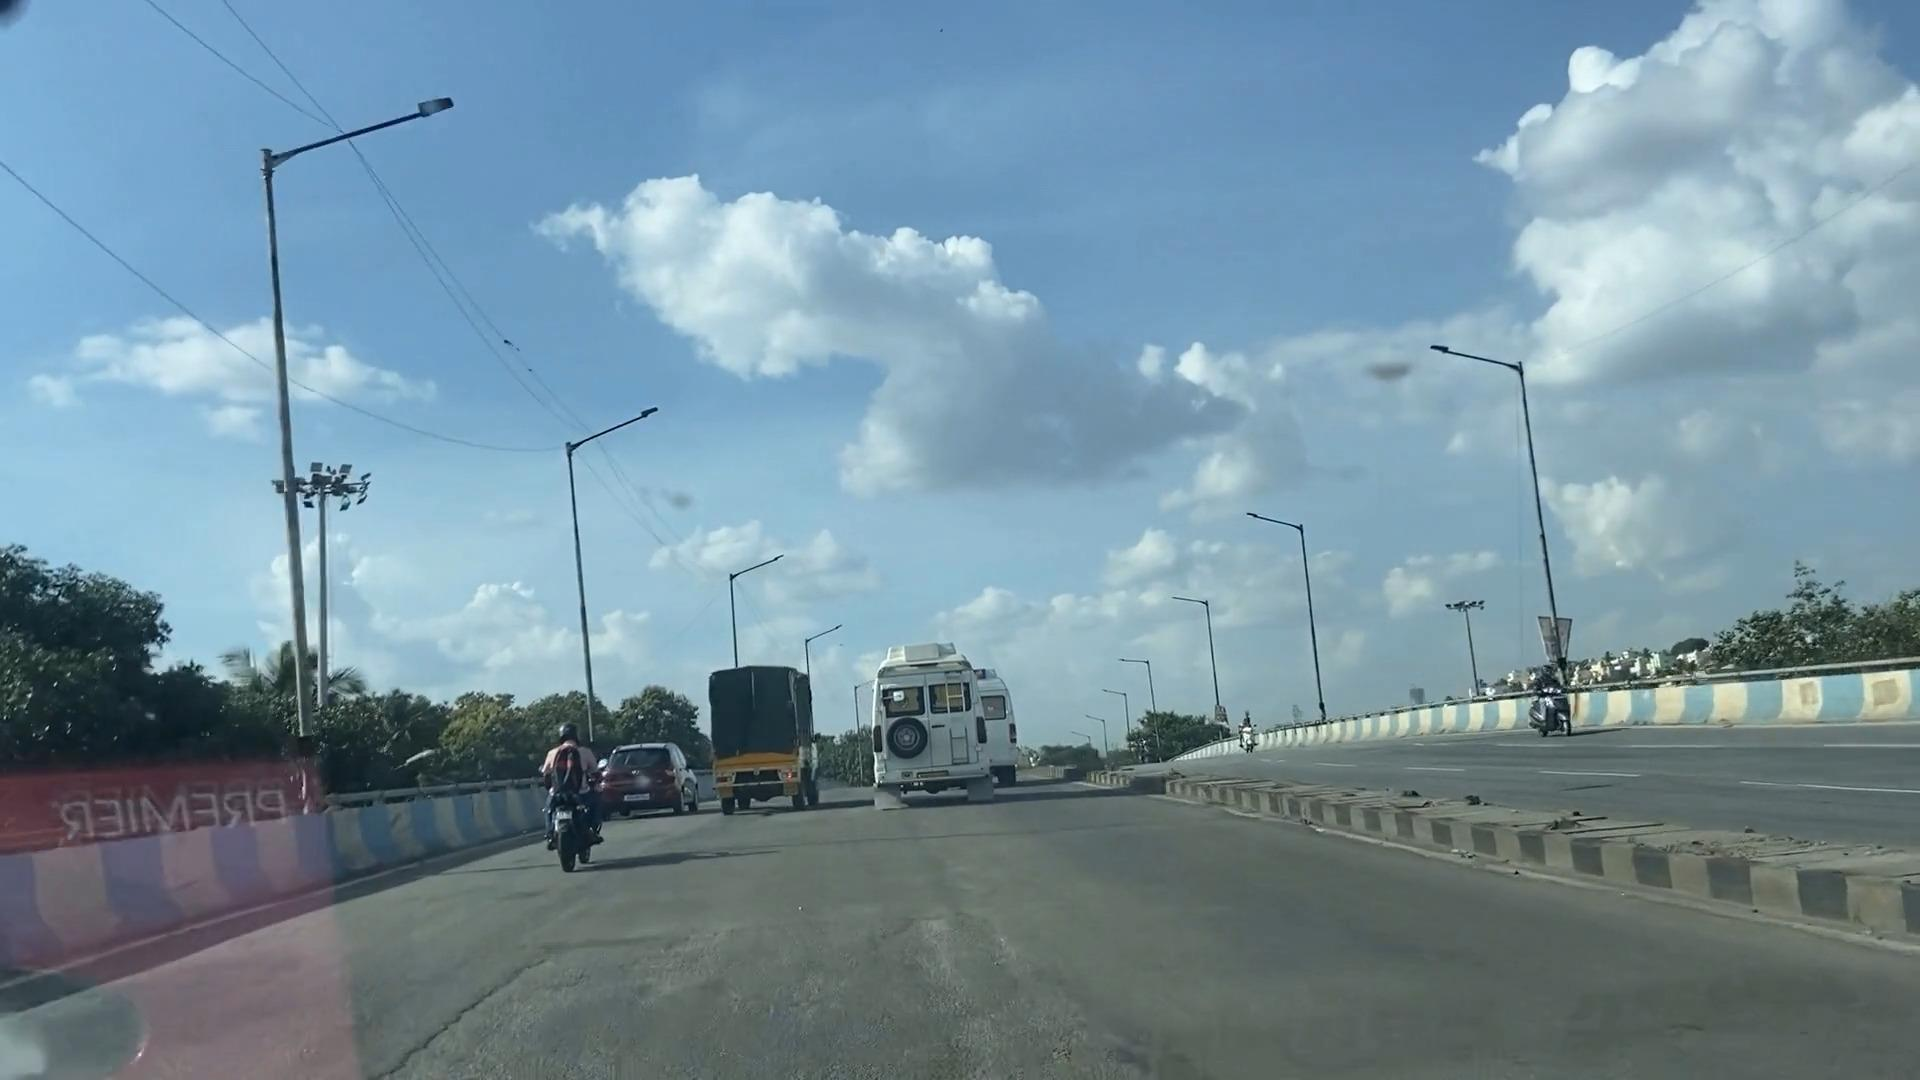HMV: (843, 645, 993, 799), (700, 658, 827, 818)
LMV: (529, 711, 605, 872), (599, 728, 692, 816)
RoadDamages: (382, 898, 1137, 1080)
